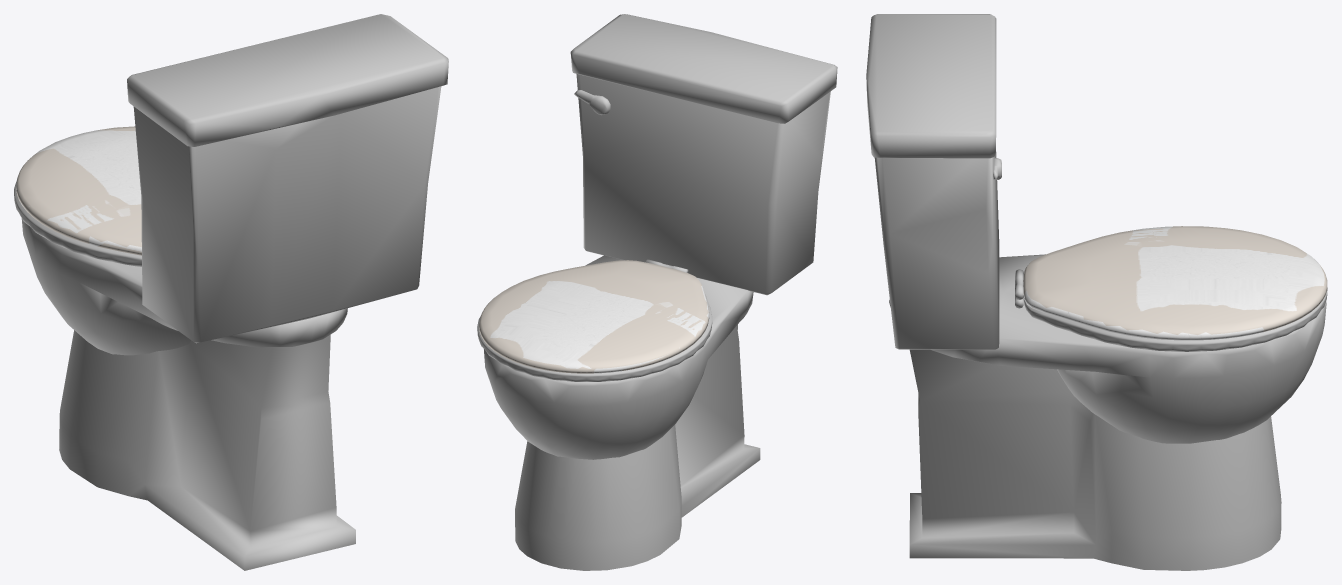
File: toilet.obj
3 views of the same model, side by side, from view 1: azimuth 30°, elevation 25°; view 2: azimuth 150°, elevation 25°; view 3: azimuth 270°, elevation 25° (orthographic). The views are drawn at different scales.
Parts seen in each view (by area): view 1: toilet_01, toliet_01_cover_toilet_01_cover; view 2: toilet_01, toliet_01_cover_toilet_01_cover; view 3: toilet_01, toliet_01_cover_toilet_01_cover.
Part boxes in pixels (<box>): toilet_01: <box>14,14,448,570</box>; toliet_01_cover_toilet_01_cover: <box>16,126,141,255</box>; toilet_01: <box>477,14,837,570</box>; toliet_01_cover_toilet_01_cover: <box>479,260,709,373</box>; toilet_01: <box>866,14,1327,570</box>; toliet_01_cover_toilet_01_cover: <box>1023,226,1327,340</box>.
Size of the model in its own units: 0.5397 by 0.9455 by 0.8603.
